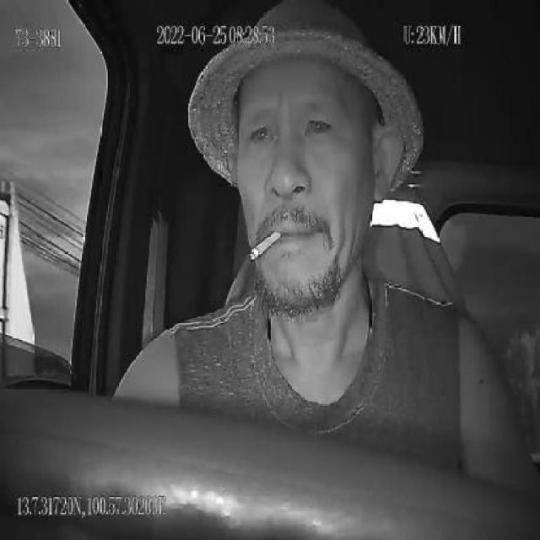smoking: (250, 227, 280, 262)
